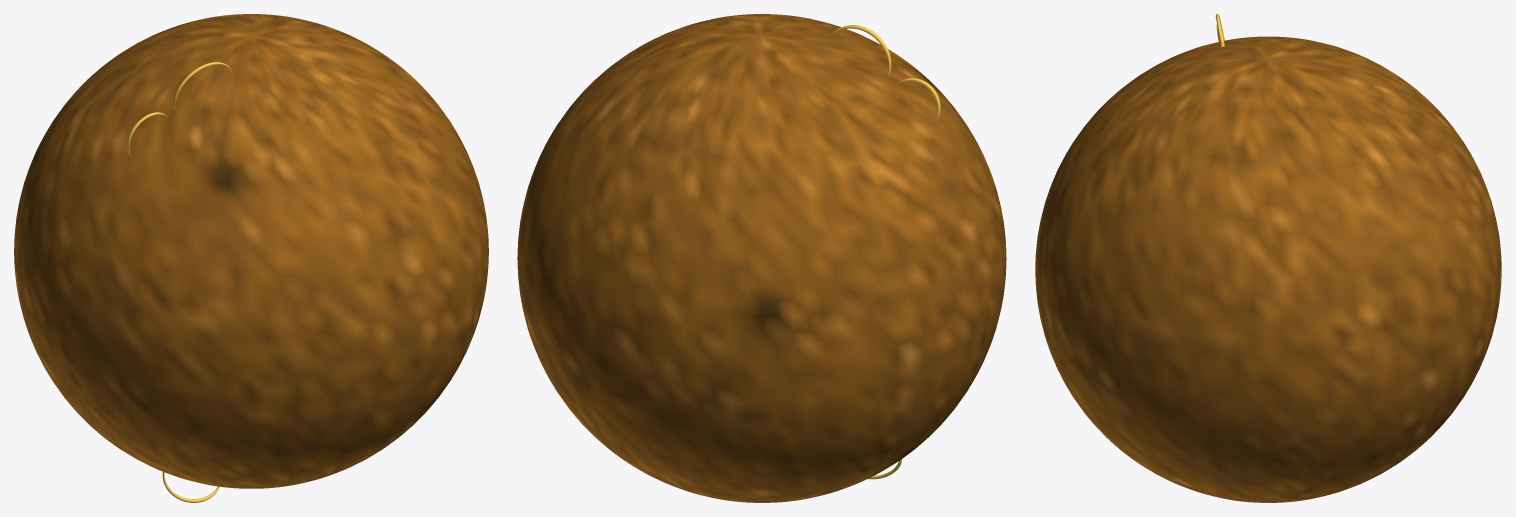
File: Star_18.fbx
3 renders of one model, left to right at view 1: azimuth 30°, elevation 25°; view 2: azimuth 150°, elevation 25°; view 3: azimuth 270°, elevation 25°, orthographic. The views are drawn at different scales.
Parts seen in each view (by area): view 1: Star_18; view 2: Star_18; view 3: Star_18.
Boxes of the visible parts, x1=… form: Star_18: x1=14, y1=14, x2=488, y2=502; Star_18: x1=517, y1=14, x2=1006, y2=502; Star_18: x1=1035, y1=14, x2=1501, y2=502.
Size of the model in its own units: 200 by 204 by 200.
